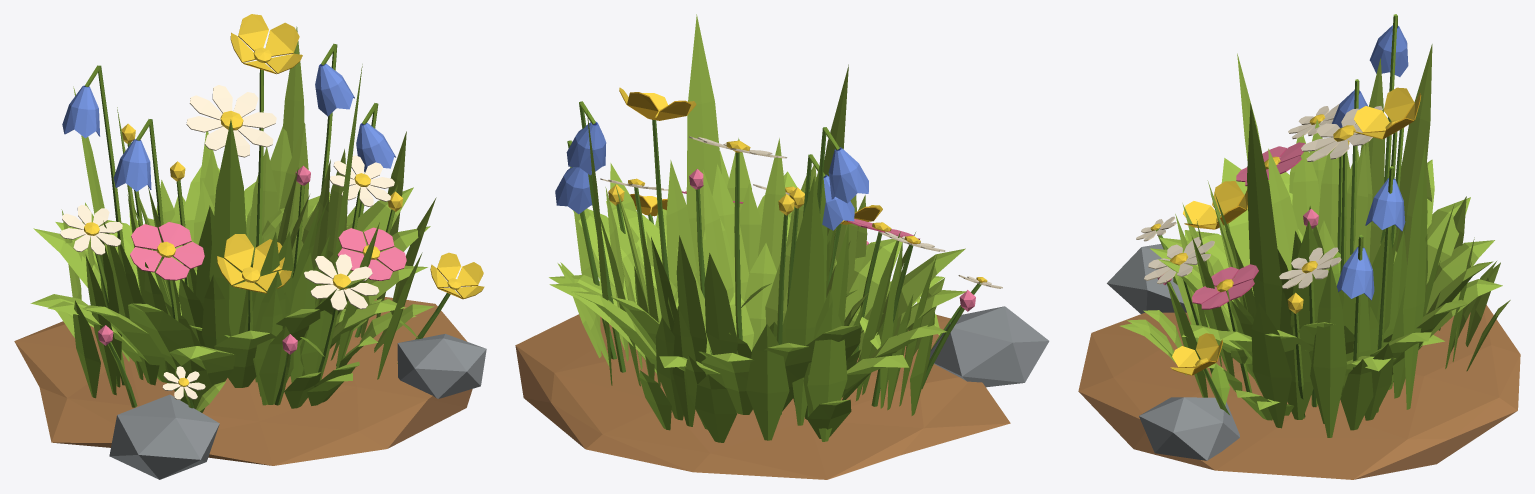
File: FMS_Flower_Meadow.fbx
3 views of the same model, side by side, from view 1: azimuth 30°, elevation 25°; view 2: azimuth 150°, elevation 25°; view 3: azimuth 270°, elevation 25° (orthographic). The views are drawn at different scales.
Parts seen in each view (by area): view 1: FMS_Flower_Meadow; view 2: FMS_Flower_Meadow; view 3: FMS_Flower_Meadow.
Part boxes in pixels (x1=…): FMS_Flower_Meadow: x1=14, y1=14, x2=486, y2=479; FMS_Flower_Meadow: x1=515, y1=14, x2=1049, y2=479; FMS_Flower_Meadow: x1=1078, y1=14, x2=1520, y2=479.
Bounding box in the file's own units: 0.6858 × 0.5 × 0.5991.
